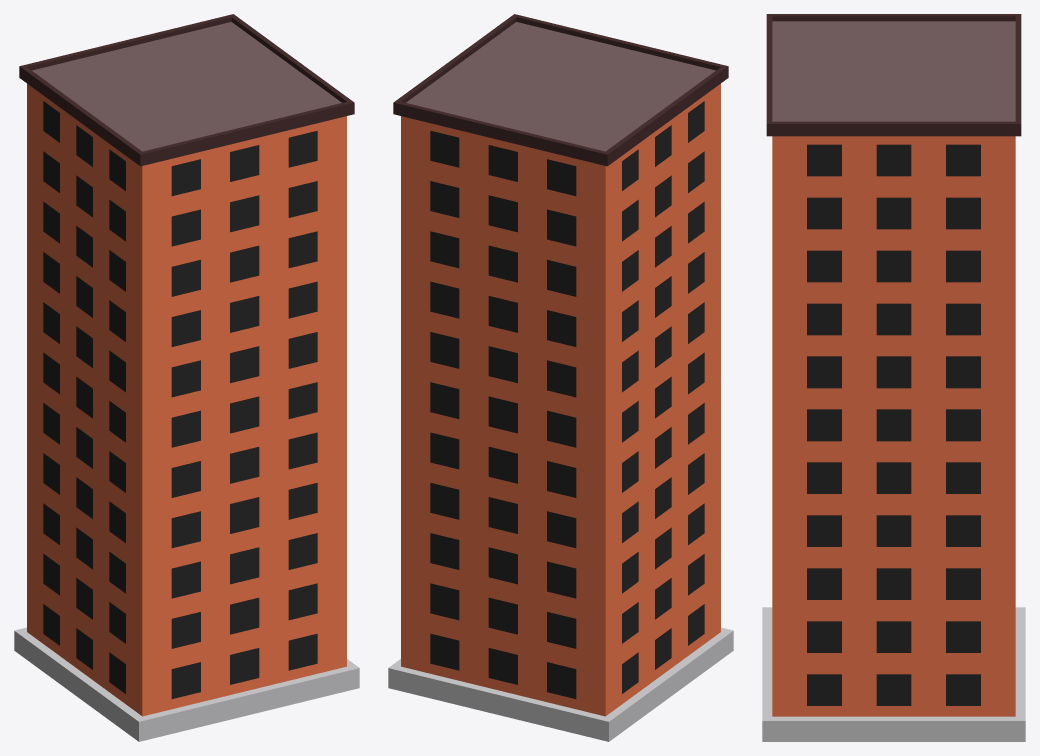
Rendered from building30c.FBX.
The picture shows the model from 3 angles, left to right: view 1: azimuth 30°, elevation 25°; view 2: azimuth 150°, elevation 25°; view 3: azimuth 270°, elevation 25°; orthographic projection. The views are drawn at different scales.
Parts seen in each view (by area): view 1: building30c; view 2: building30c; view 3: building30c.
Boxes of the visible parts, left/top/right/bottom form: building30c: left=14, top=14, right=359, bottom=741; building30c: left=388, top=14, right=733, bottom=741; building30c: left=762, top=14, right=1025, bottom=741.
Bounding box in the file's own units: 17.57 × 44.48 × 17.21.
